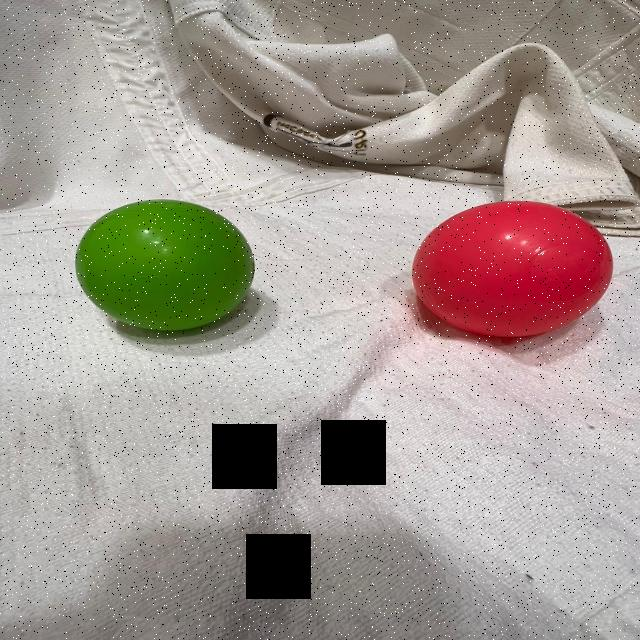ball: (410, 198, 616, 343), (68, 197, 260, 335)
